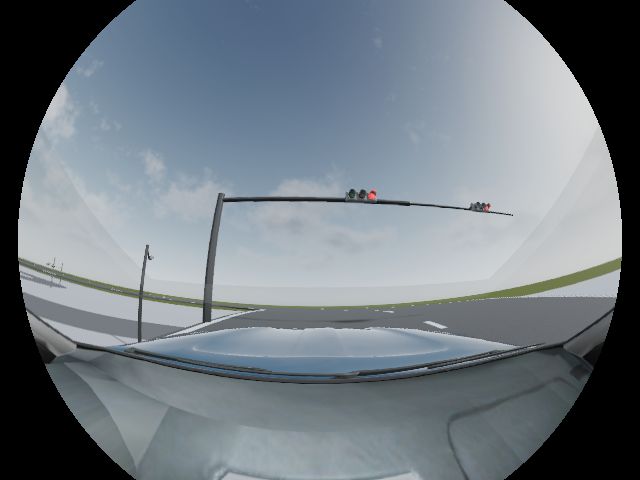Red Light: (346, 187, 376, 203), (470, 200, 491, 211)
